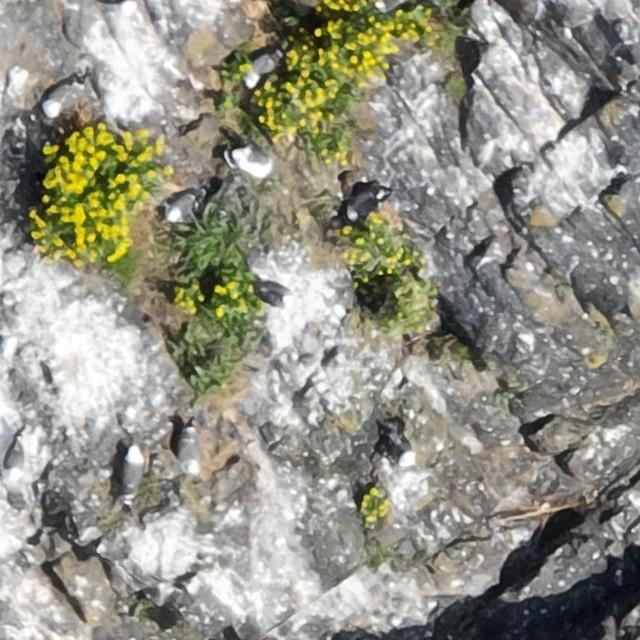umineko: (384, 424, 418, 468), (232, 145, 272, 177), (248, 51, 280, 84), (42, 83, 76, 114), (166, 192, 196, 222), (348, 191, 378, 220), (180, 432, 201, 473), (256, 283, 290, 307), (124, 450, 143, 490), (5, 440, 23, 473), (373, 0, 406, 11)
